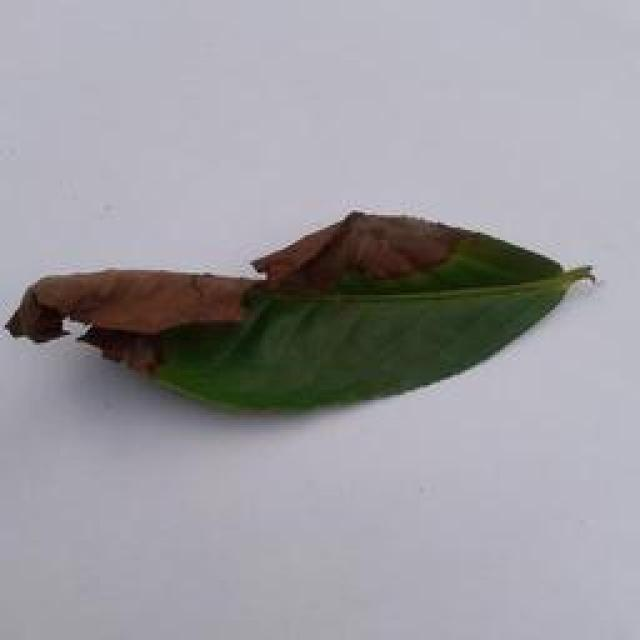Brown Blight: (0, 195, 612, 424)
